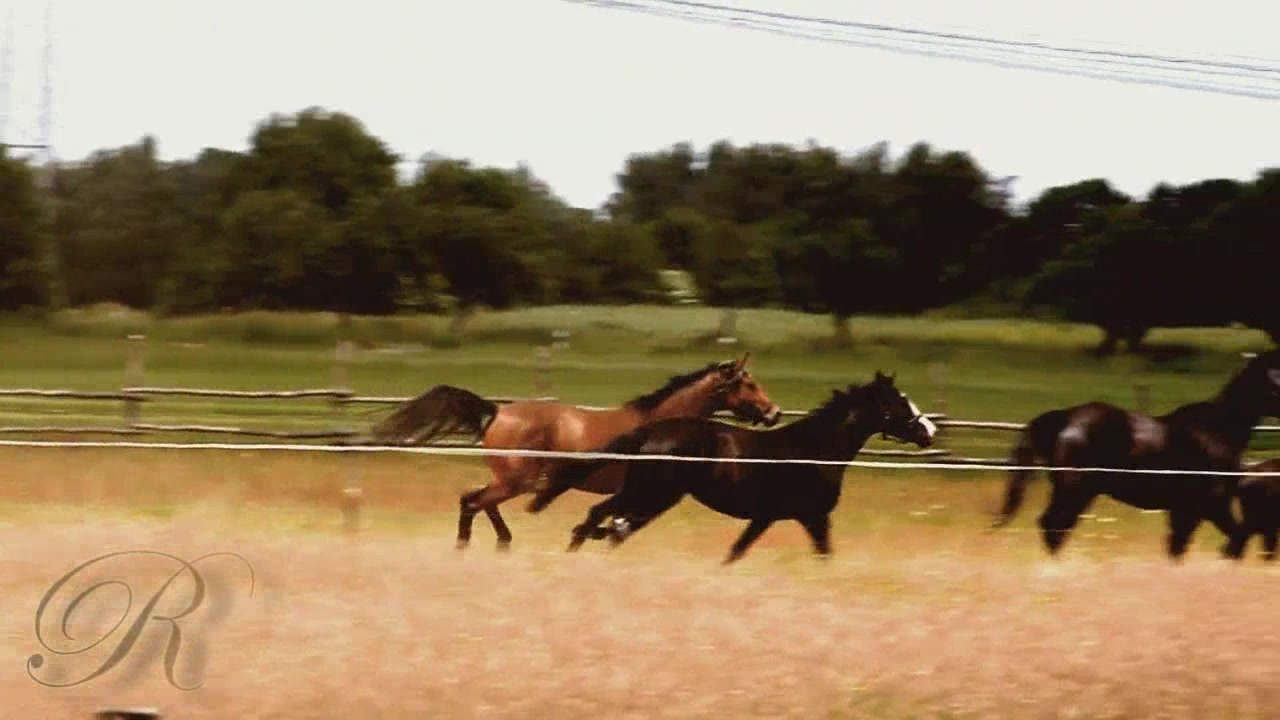horse: (376, 352, 789, 557), (527, 368, 942, 567), (992, 352, 1280, 571), (1225, 455, 1280, 567)
